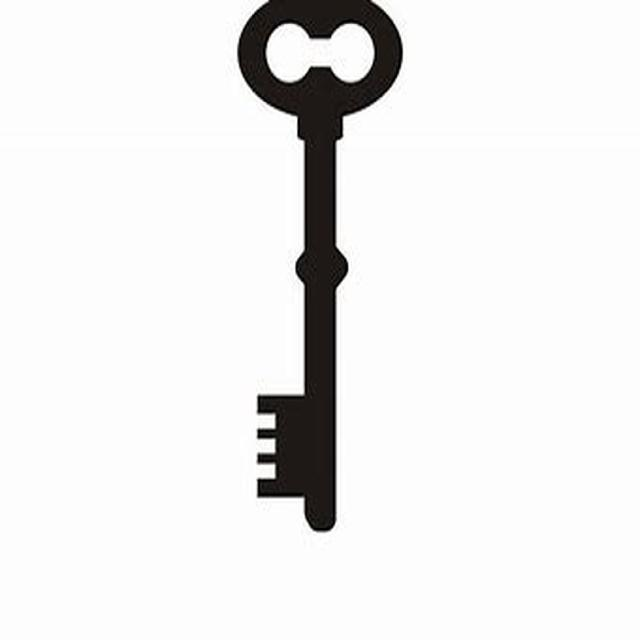key: (228, 17, 382, 579)
